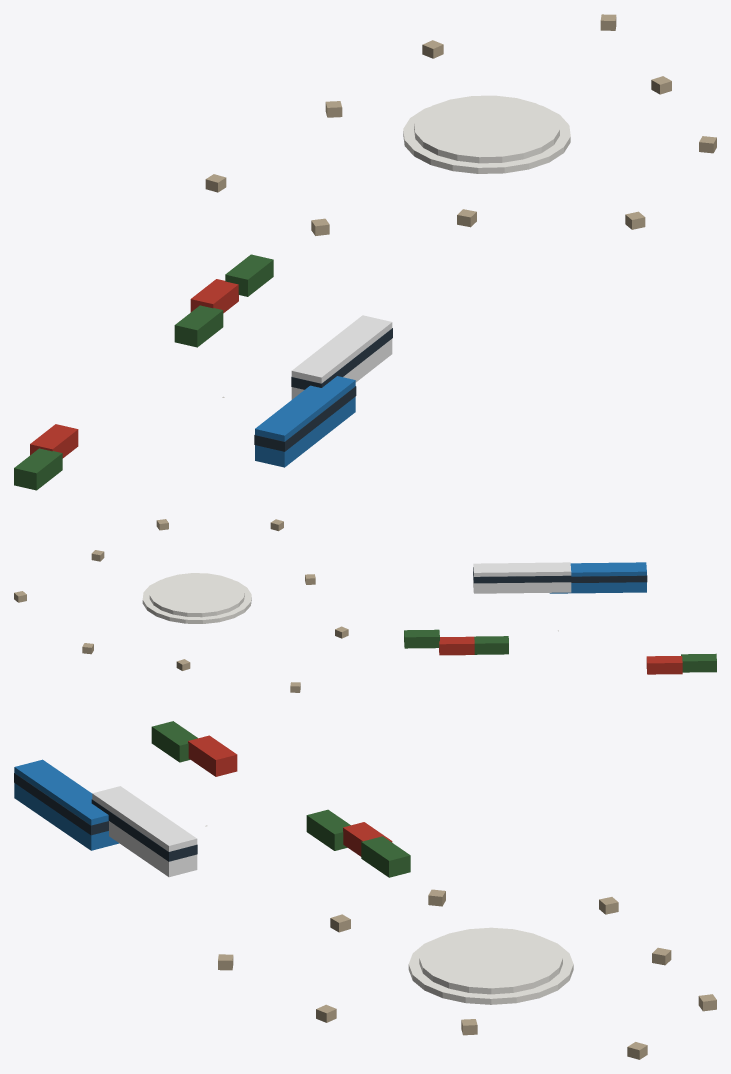
Rendered from lhsite.glb.
3 renders of one model, top to bottom at view 1: azimuth 30°, elevation 25°; view 2: azimuth 150°, elevation 25°; view 3: azimuth 270°, elevation 25°, orthographic. The views are drawn at different scales.
Parts seen in each view (by area): view 1: lhsite_lod0; view 2: lhsite_lod0; view 3: lhsite_lod0.
Part boxes in pixels (x1,y1,x2,y2): lhsite_lod0: (14,14,716,490); lhsite_lod0: (14,519,716,692); lhsite_lod0: (14,721,716,1059).
Size of what is drawn, in the model's own units: 71.47 by 8.11 by 52.88.
